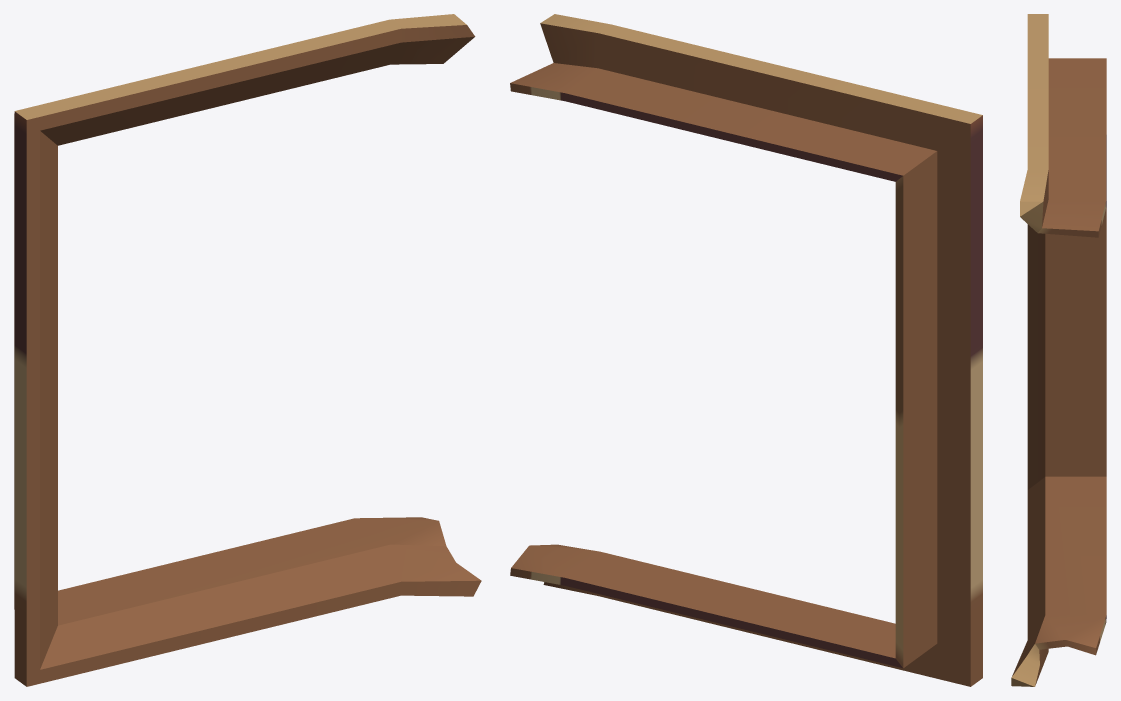
The model's file is DBK_WinWide_Trim_C_Side.fbx.
3 views of the same model, side by side, from view 1: azimuth 30°, elevation 25°; view 2: azimuth 150°, elevation 25°; view 3: azimuth 270°, elevation 25° (orthographic). The views are drawn at different scales.
Visible parts, largest first — view 1: DBK_WinWide_Trim_C_Side; view 2: DBK_WinWide_Trim_C_Side; view 3: DBK_WinWide_Trim_C_Side.
Part boxes in pixels (x1,y1,x2,y2): DBK_WinWide_Trim_C_Side: (14,14,481,686); DBK_WinWide_Trim_C_Side: (510,14,982,686); DBK_WinWide_Trim_C_Side: (1011,14,1106,686).
Size of the model in its own units: 115 by 142 by 24.99.
